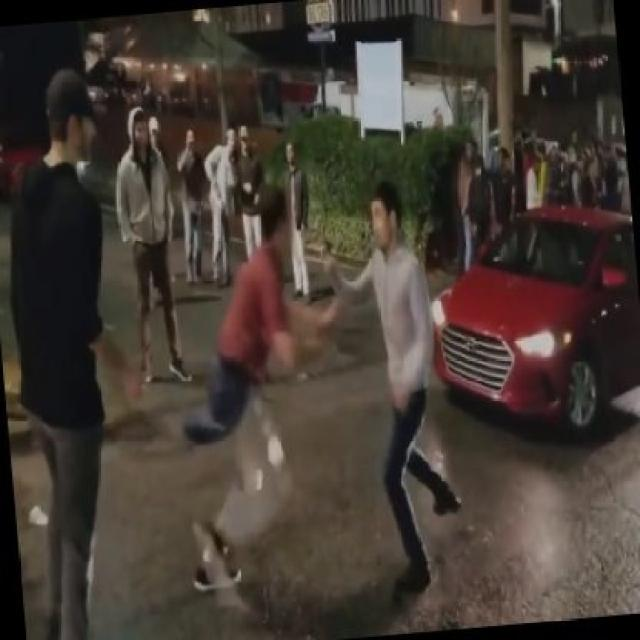fight: (180, 185, 342, 593), (313, 184, 464, 592)
non-fight: (11, 72, 136, 631), (116, 109, 192, 381), (203, 130, 242, 282), (282, 145, 312, 298), (234, 133, 266, 268)
